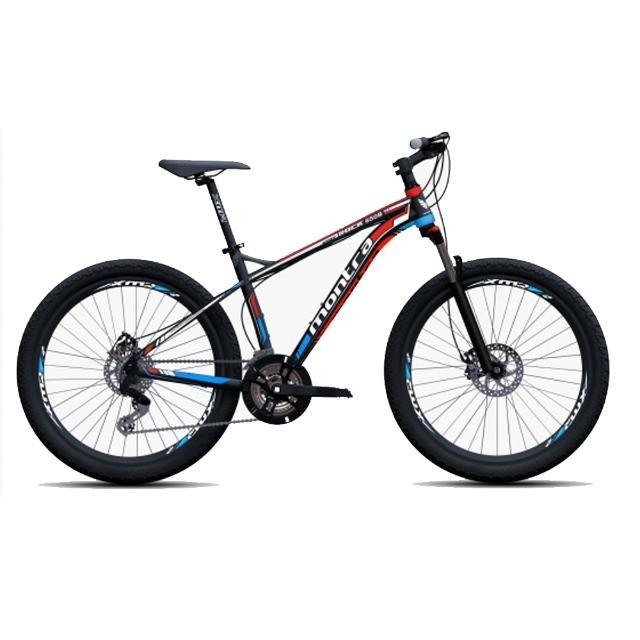obstacle: (17, 103, 638, 579)
